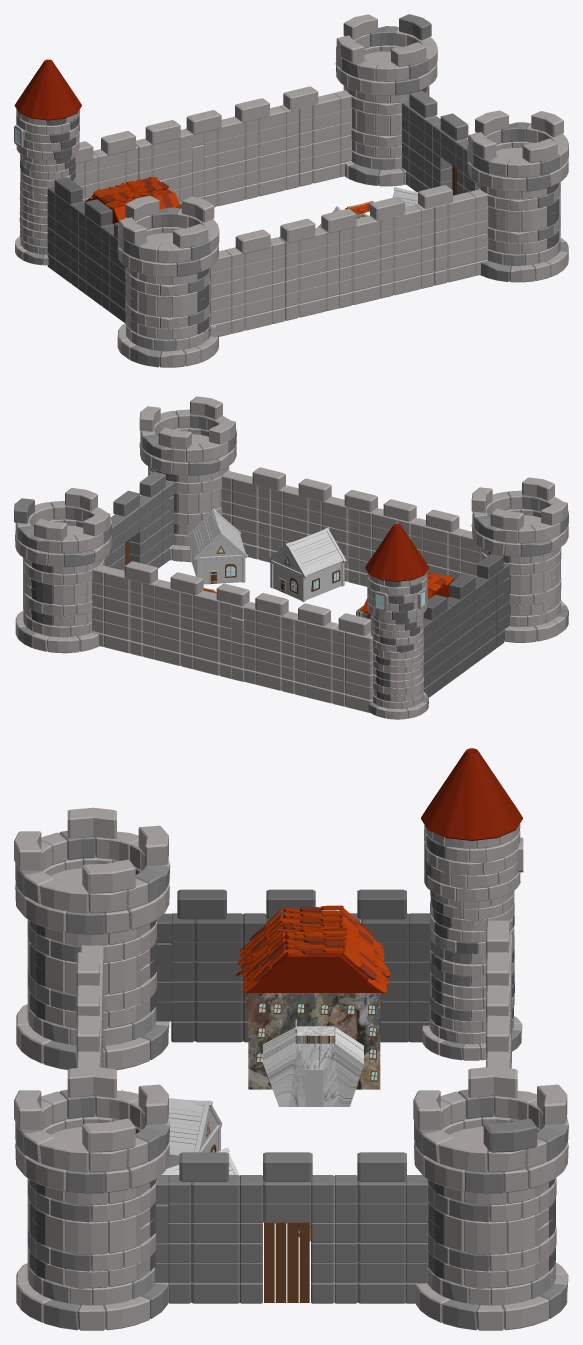
The model's file is zamok3.fbx.
3 renders of one model, top to bottom at view 1: azimuth 30°, elevation 25°; view 2: azimuth 150°, elevation 25°; view 3: azimuth 270°, elevation 25°, orthographic. The views are drawn at different scales.
Visible parts, largest first — view 1: Cube.037, Cube.096, Cube.183, Cube.025, Cube.093, Cube.169, Cube.116, Cube.074, Cone, Plane.006; view 2: Cube.096, Cube.037, Cube.093, Cube.183, Cube.025, Cube.169, Cube.116, Cube.074, Cube.004, Cube.002, Cone, Plane.006; view 3: Cube.093, Cube.025, Cube.074, Cube.183, Cube.169, Cube.116, Plane.006, Cube.186, Cube.188, Cone, Cube.187, Cube.096 (+5 smaller).
Part boxes in pixels (x1,y1,x2,y2): Cube.037: (211, 185, 488, 336); Cube.096: (75, 86, 352, 207); Cube.183: (117, 196, 219, 367); Cube.025: (467, 110, 568, 282); Cube.093: (335, 14, 437, 186); Cube.169: (47, 177, 125, 322); Cube.116: (15, 109, 79, 265); Cube.074: (402, 90, 474, 194); Cone: (14, 59, 81, 120); Plane.006: (85, 176, 181, 220); Cube.096: (92, 561, 373, 712); Cube.037: (221, 467, 479, 586); Cube.093: (14, 488, 111, 653); Cube.183: (471, 477, 568, 642); Cube.025: (139, 396, 236, 561); Cube.169: (423, 553, 510, 697); Cube.116: (367, 571, 428, 719); Cube.074: (104, 471, 174, 570); Cube.004: (267, 526, 346, 601); Cube.002: (186, 508, 247, 584); Cone: (365, 524, 428, 581); Plane.006: (361, 571, 454, 614); Cube.093: (413, 1066, 568, 1330); Cube.025: (14, 1066, 170, 1330); Cube.074: (154, 1152, 428, 1303); Cube.183: (14, 807, 170, 1069); Cube.169: (156, 889, 430, 1042); Cube.116: (422, 823, 522, 1060); Plane.006: (236, 905, 390, 993); Cube.186: (248, 993, 380, 1089); Cube.188: (263, 1026, 363, 1106); Cone: (421, 748, 522, 840); Cube.187: (246, 912, 380, 993); Cube.096: (486, 920, 511, 1068).
Bounding box in the file's own units: 3970 × 1667 × 2864.
